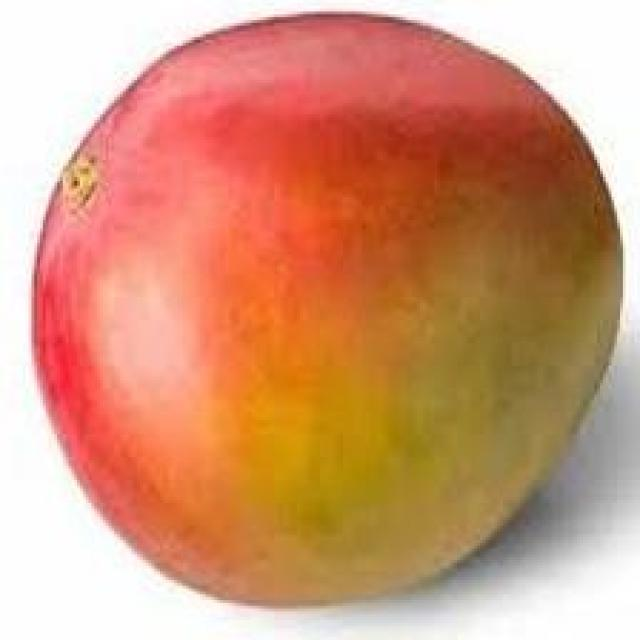Good_Mango: (29, 11, 626, 609)
